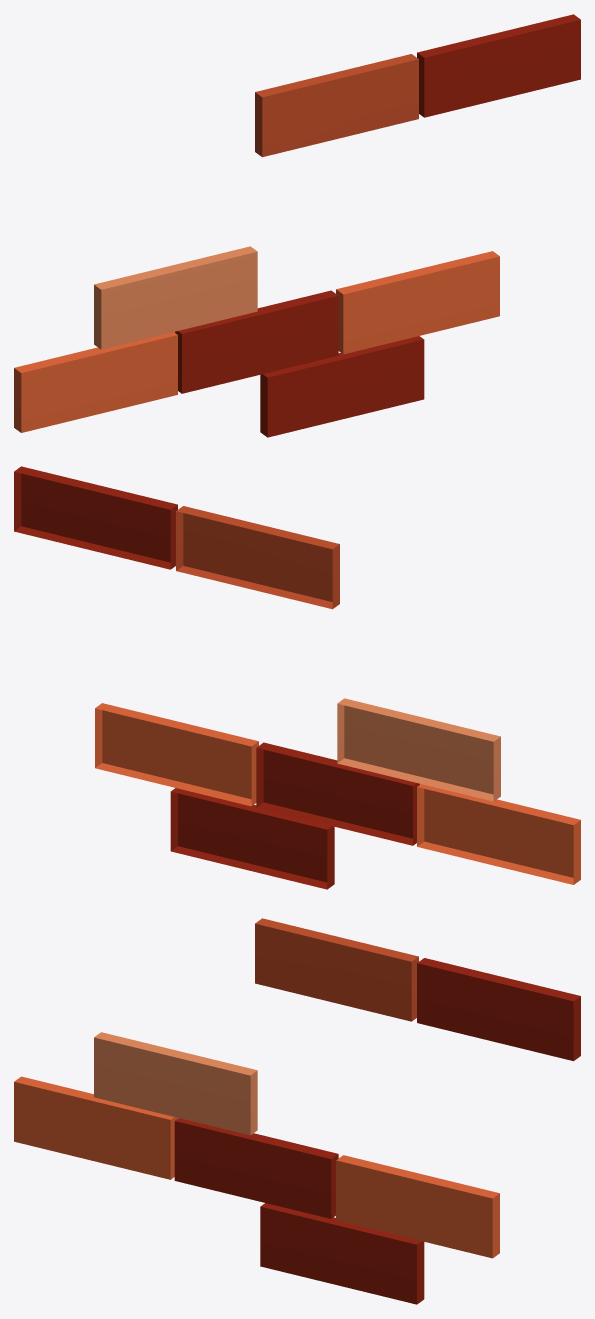
Rendered from Decor_Gach_05.fbx.
3 views of the same model, one above another, from view 1: azimuth 30°, elevation 25°; view 2: azimuth 150°, elevation 25°; view 3: azimuth 330°, elevation 25° (orthographic).
Parts seen in each view (by area): view 1: Decor_Gach_05; view 2: Decor_Gach_05; view 3: Decor_Gach_05.
Boxes of the visible parts, bbox=[...] form: Decor_Gach_05: bbox=[14, 14, 580, 437]; Decor_Gach_05: bbox=[14, 466, 580, 889]; Decor_Gach_05: bbox=[14, 918, 580, 1304].
Bounding box in the file's own units: 269 × 157 × 6.06.
